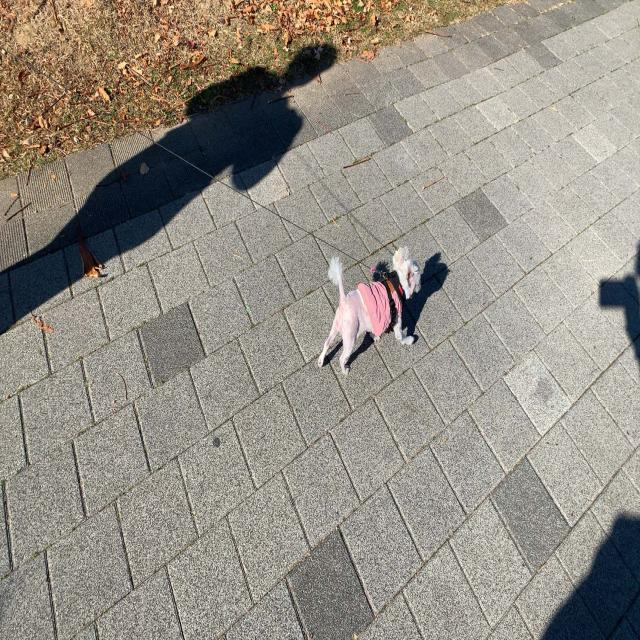Dog: (317, 246, 423, 376)
